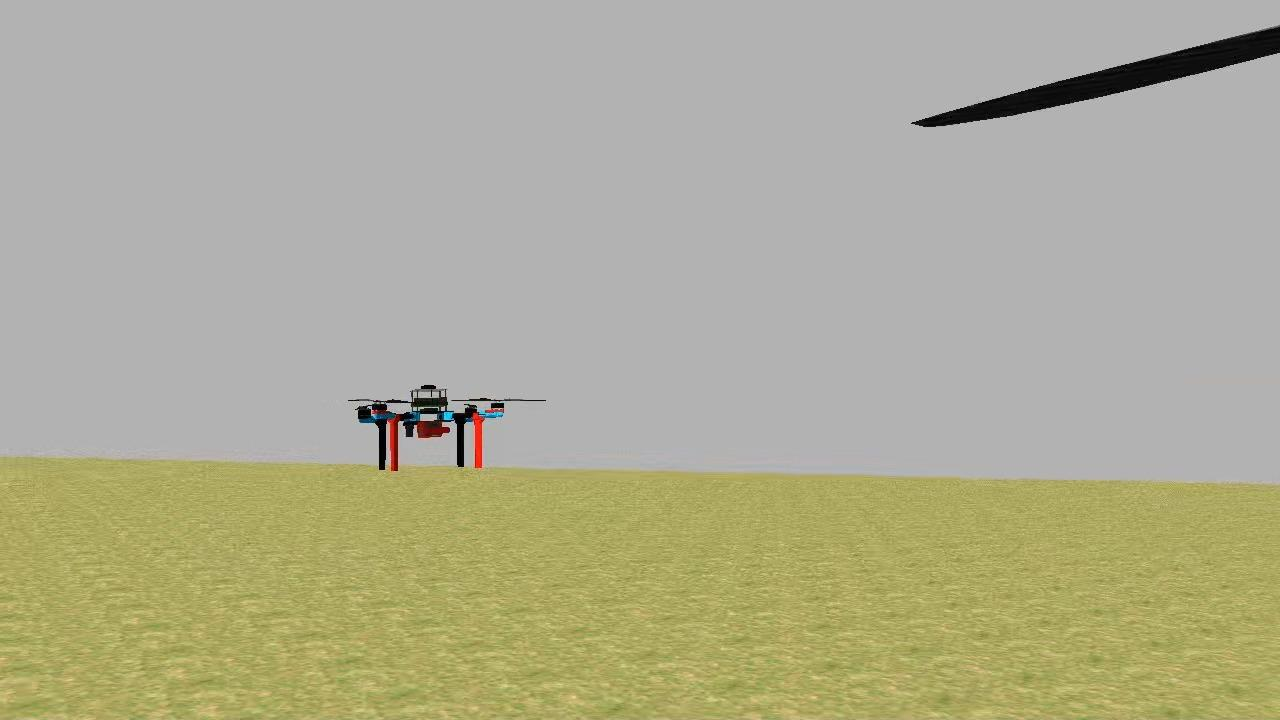UAV: (350, 376, 512, 476)
